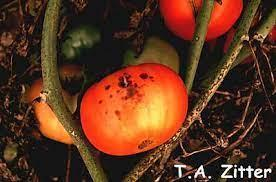tomato early blight: (80, 66, 189, 154)
